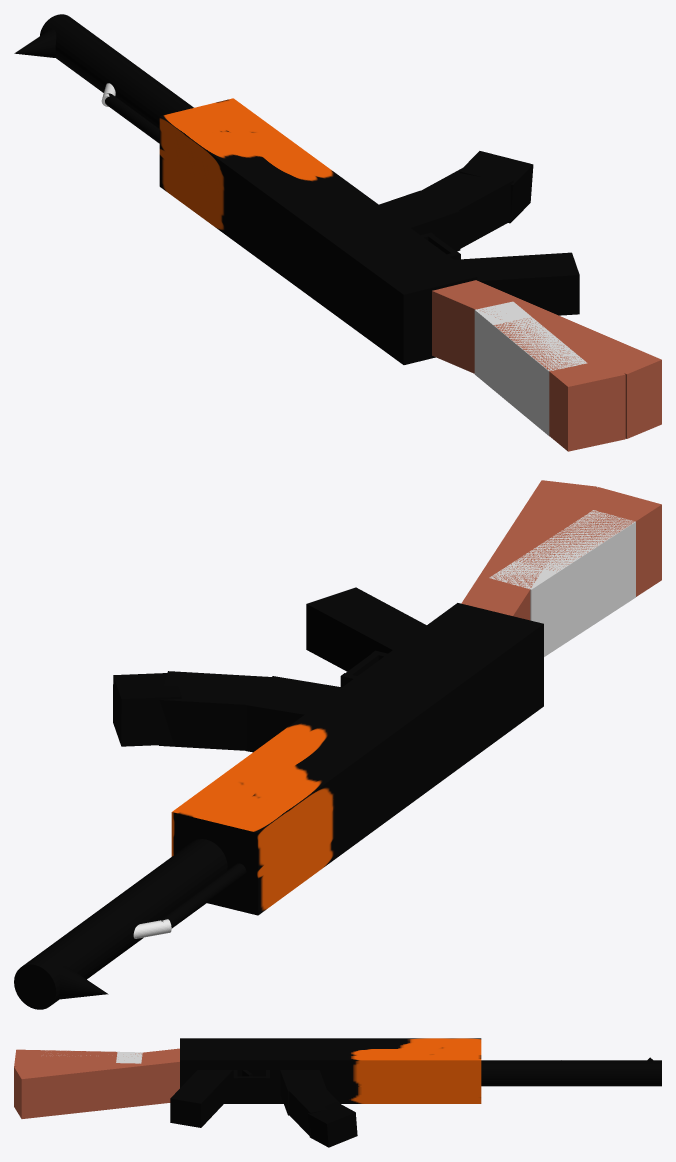
3 views of the same model, one above another, from view 1: azimuth 30°, elevation 25°; view 2: azimuth 150°, elevation 25°; view 3: azimuth 270°, elevation 25° (orthographic). The views are drawn at different scales.
Visible parts, largest first — view 1: Cone; view 2: Cone; view 3: Cone.
Boxes of the visible parts, left/top/right/bottom form: Cone: left=14, top=14, right=661, bottom=451; Cone: left=14, top=480, right=661, bottom=1009; Cone: left=14, top=1038, right=661, bottom=1147.
Size of the model in its own units: 1.22 by 0.3187 by 4.3.
Materials: 3 (3 with a texture image).
